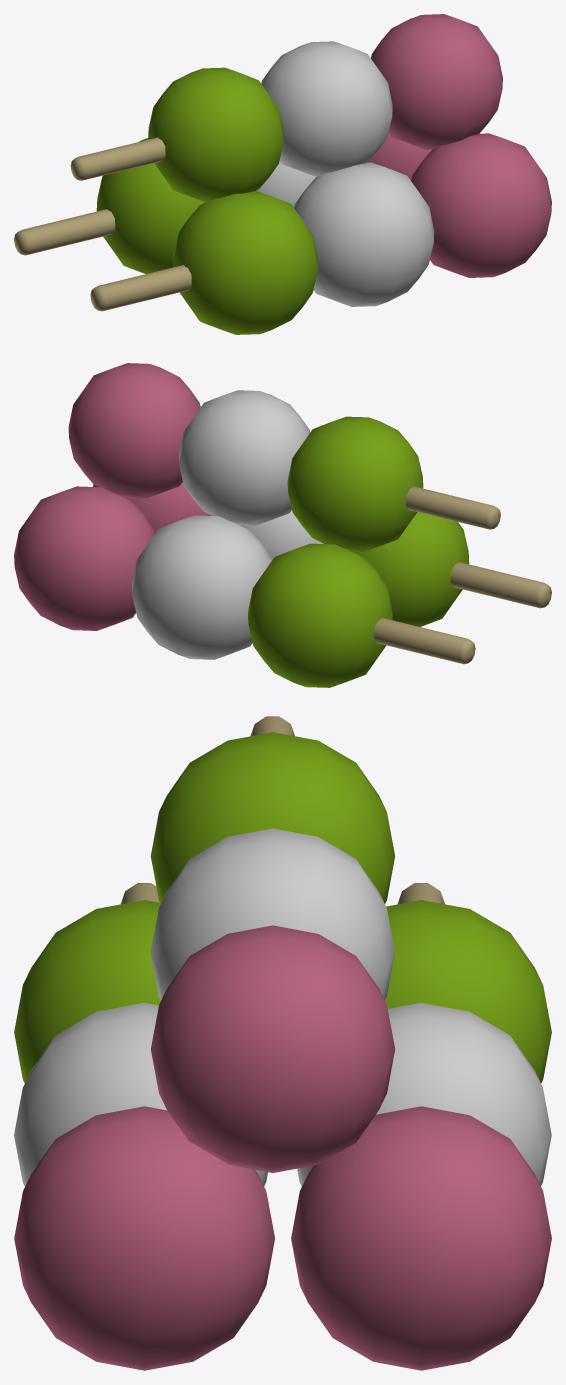
File: dango.glb
3 renders of one model, top to bottom at view 1: azimuth 30°, elevation 25°; view 2: azimuth 150°, elevation 25°; view 3: azimuth 270°, elevation 25°, orthographic. The views are drawn at different scales.
Visible parts, largest first — view 1: Food_Dango; view 2: Food_Dango; view 3: Food_Dango.
Boxes of the visible parts, bbox=[...] form: Food_Dango: bbox=[14, 14, 551, 334]; Food_Dango: bbox=[14, 363, 551, 687]; Food_Dango: bbox=[14, 716, 551, 1370].
Size of the model in its own units: 0.9144 by 0.4428 by 0.5256.
